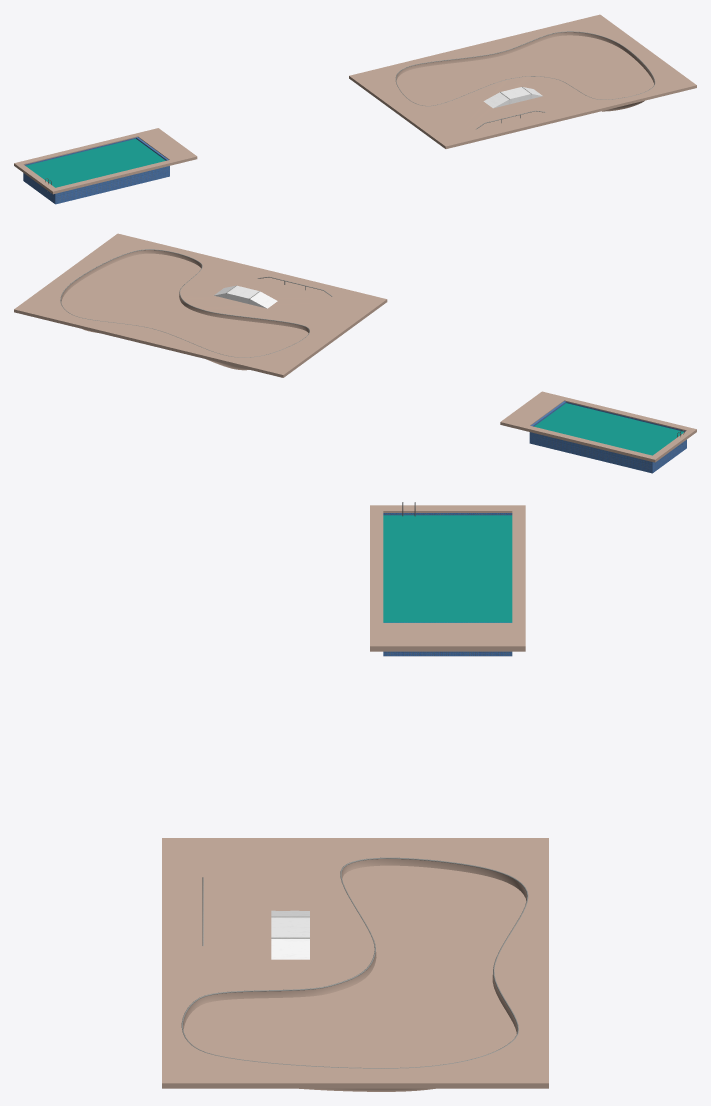
Rendered from POOLS.FBX.
3 views of the same model, one above another, from view 1: azimuth 30°, elevation 25°; view 2: azimuth 150°, elevation 25°; view 3: azimuth 270°, elevation 25° (orthographic). The views are drawn at different scales.
Parts seen in each view (by area): view 1: pool, water2, POOL-1, WATER, Box; view 2: pool, water2, POOL-1, WATER, Box; view 3: pool, water2, WATER, POOL-1, Box.
Part boxes in pixels (bbox=[...]): pool: bbox=[349, 14, 696, 148]; water2: bbox=[396, 35, 653, 105]; POOL-1: bbox=[14, 128, 197, 204]; WATER: bbox=[25, 139, 165, 187]; Box: bbox=[483, 87, 542, 108]; pool: bbox=[14, 233, 387, 377]; water2: bbox=[61, 253, 308, 357]; POOL-1: bbox=[500, 391, 696, 473]; WATER: bbox=[534, 403, 683, 455]; Box: bbox=[214, 285, 277, 308]; pool: bbox=[162, 838, 548, 1091]; water2: bbox=[183, 865, 526, 1067]; WATER: bbox=[383, 515, 512, 622]; POOL-1: bbox=[370, 502, 525, 656]; Box: bbox=[271, 910, 309, 959].
Bounding box in the file's own units: 7069 × 274 × 2000.
